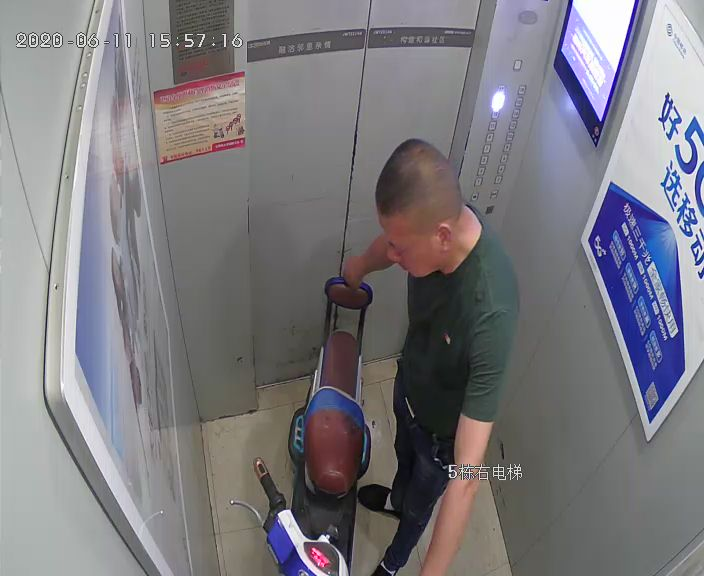Electric-bicycle: (232, 269, 373, 576)
